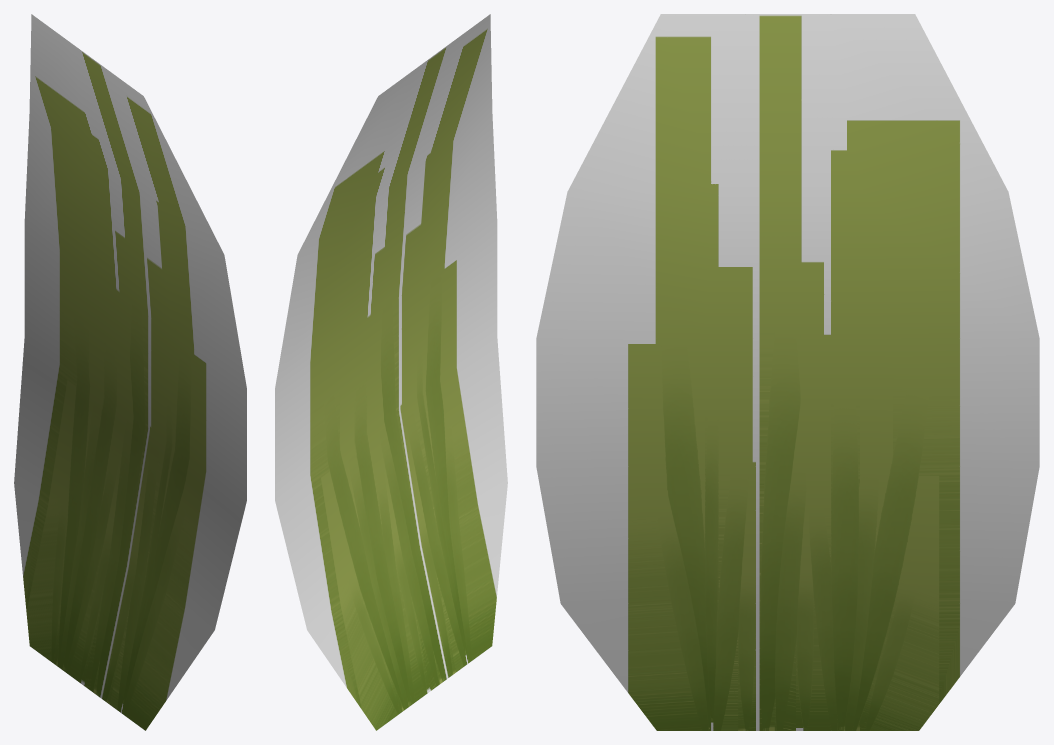
Rendered from newGrass.fbx.
The picture shows the model from 3 angles, left to right: view 1: azimuth 30°, elevation 25°; view 2: azimuth 150°, elevation 25°; view 3: azimuth 270°, elevation 25°; orthographic projection. The views are drawn at different scales.
Parts seen in each view (by area): view 1: Plane; view 2: Plane; view 3: Plane.
Part boxes in pixels (box(x1,y1,x2,y2)): Plane: box(14, 14, 246, 730); Plane: box(275, 14, 507, 730); Plane: box(536, 14, 1039, 730).
Size of the model in its own units: 4.98 by 62.77 by 39.95.
Materials: 1 (1 with a texture image).
